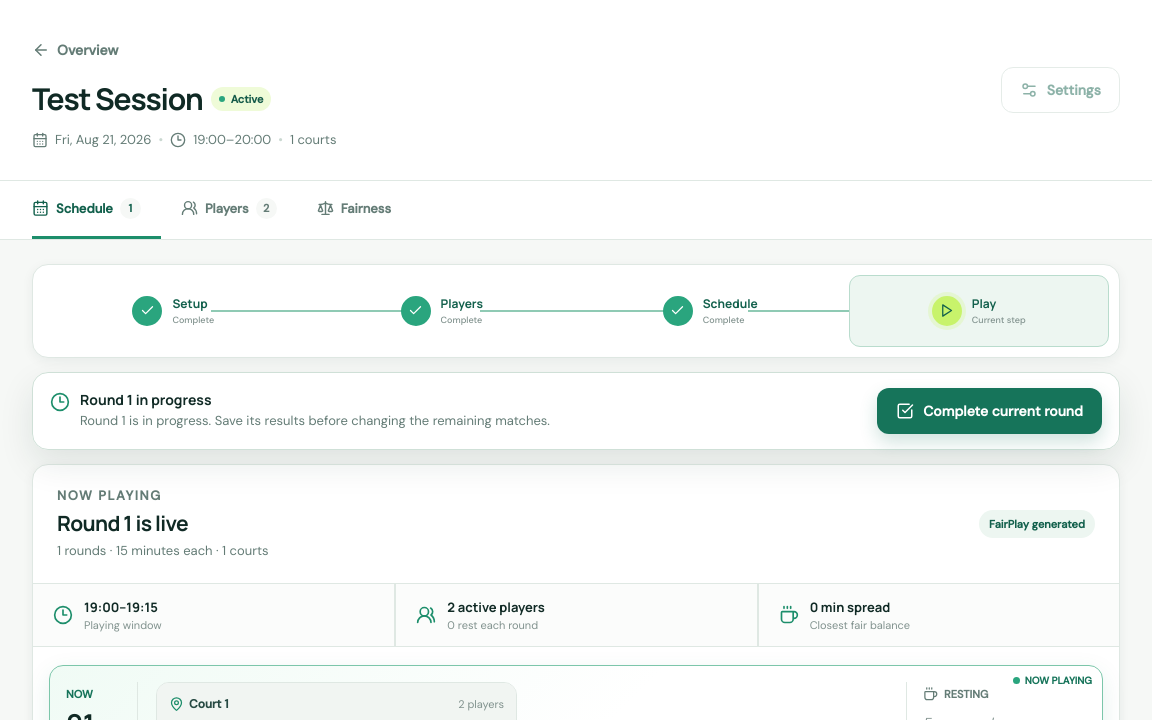
Scenario: SessionPage lifecycle › supports completing a match without a score and locks a finished session
This screenshot has width=1152, height=720.
Click the button "Complete current round" at (990, 410), box x1=877 y1=388 x2=1102 y2=434
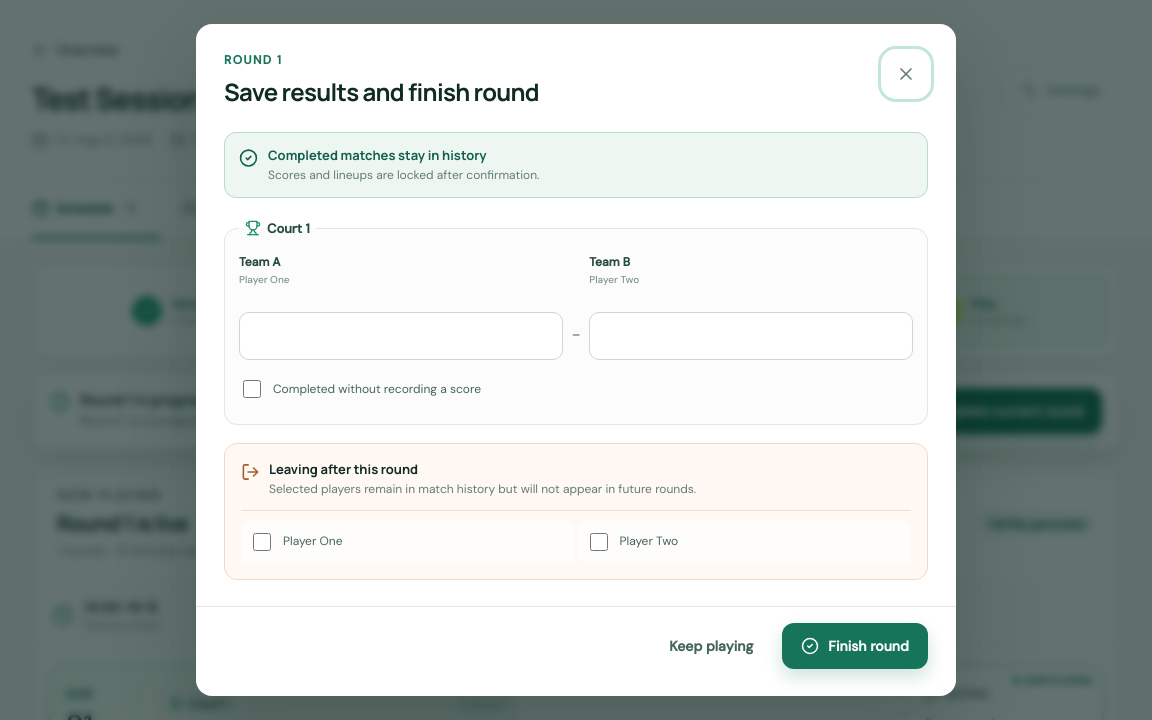
Click the checkbox labelled "Completed without recording a score" at (252, 389), box x1=243 y1=380 x2=261 y2=398
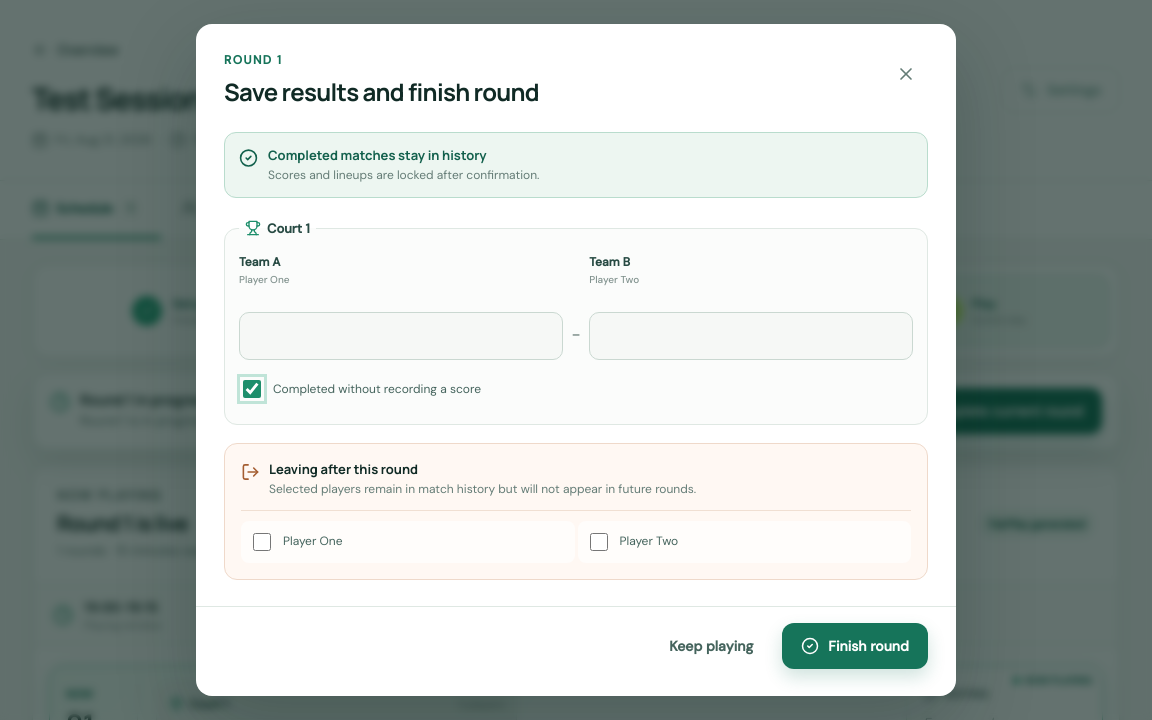
Click the button "Finish round" at (855, 646), box x1=782 y1=623 x2=928 y2=669
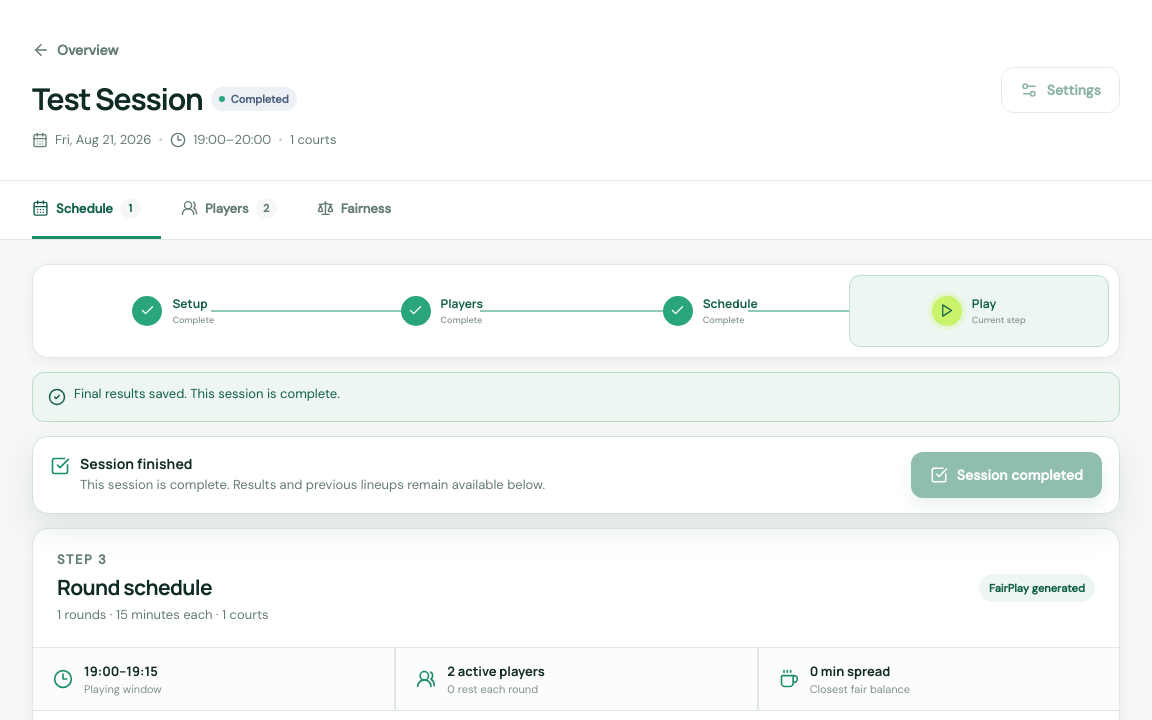
Expected: the button "Settings" is disabled, x1=1001 y1=67 x2=1120 y2=113
Expected: the text "Final results saved. This session is complete." is shown, x1=32 y1=372 x2=1120 y2=422
Expected: the button "Session completed" is disabled, x1=911 y1=452 x2=1102 y2=498
